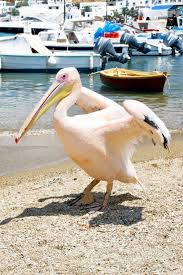pelican: (16, 67, 169, 210)
